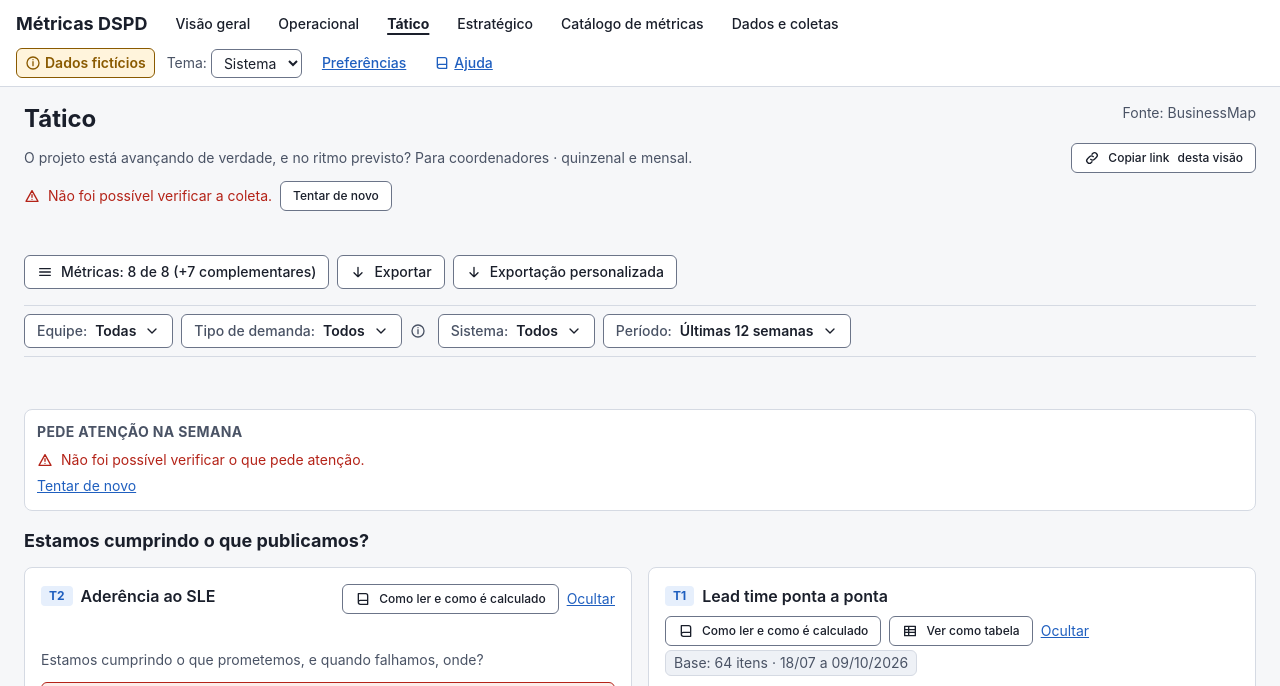
it: T1 lead time por classe › A1/A2/A3: blocos e P85 por classe, n<20 sem barra, n=20 publica, só papéis como donos
The width and height of the screenshot is (1280, 686).
Click the button "Ver como tabela": x=961, y=631 [889,616,1033,646]
(page scrolled)
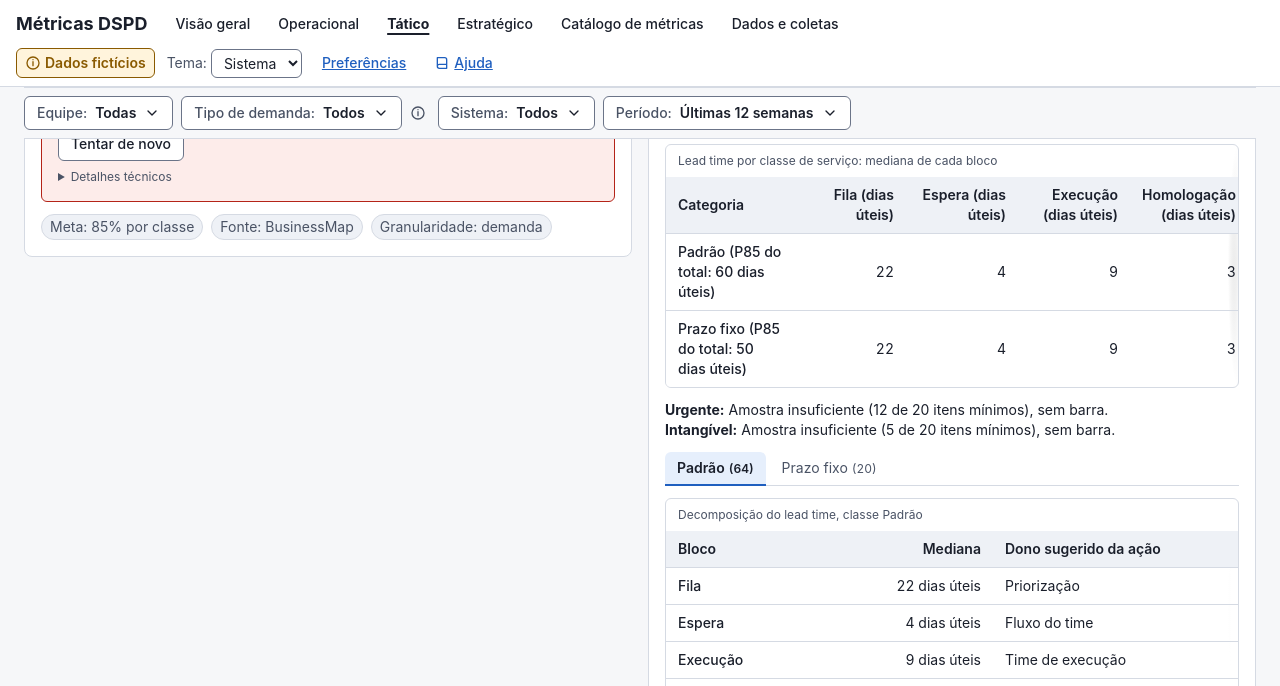
Now the column heading "Padrão (P85 do total: 60 dias úteis)" is shown, box [666,234,794,310]
